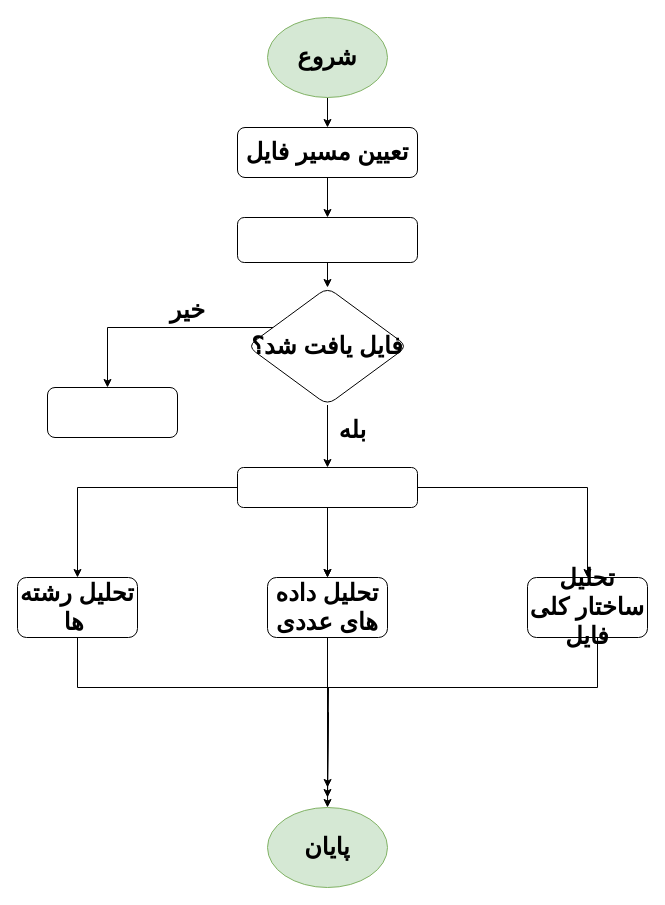
The diagram is 665 pixels wide and 905 high, and some of its shapes have lost their labels. Each missing label, with the box of its shape:
xخیر فایل یافت نشدx: (46, 386, 178, 438)
تحلیل فایل جیسون: (236, 466, 418, 508)
خواندن فایل جیسون: (236, 216, 418, 262)
